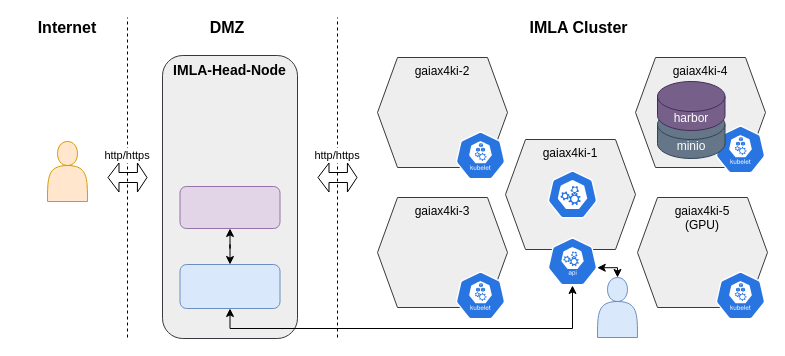
The diagram is 785 pixels wide and 356 high, and some of its shapes have lost their labels. The shapes that lost their labels are listed below. From the top down, each one's centre as x and y in pixels, then its label:
point (229, 207): EDC-Connector
point (572, 194): rke2-master
point (229, 286): Middle-Layer
point (617, 307): Admin
